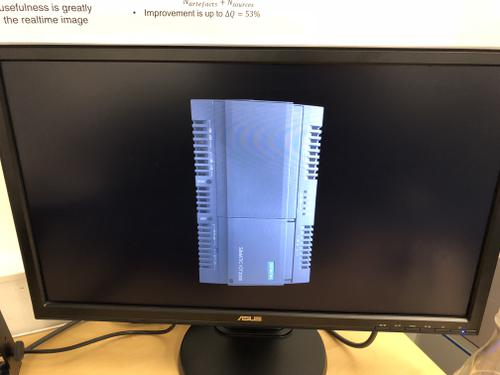device: (191, 100, 324, 286)
